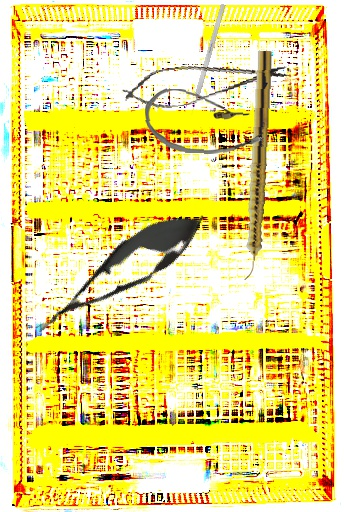Cannula: (142, 87, 267, 157)
Handpiece: (241, 50, 273, 281)
Hook Surgical: (189, 3, 226, 116)
Micro Scissor: (21, 194, 217, 352), (118, 50, 292, 115)
